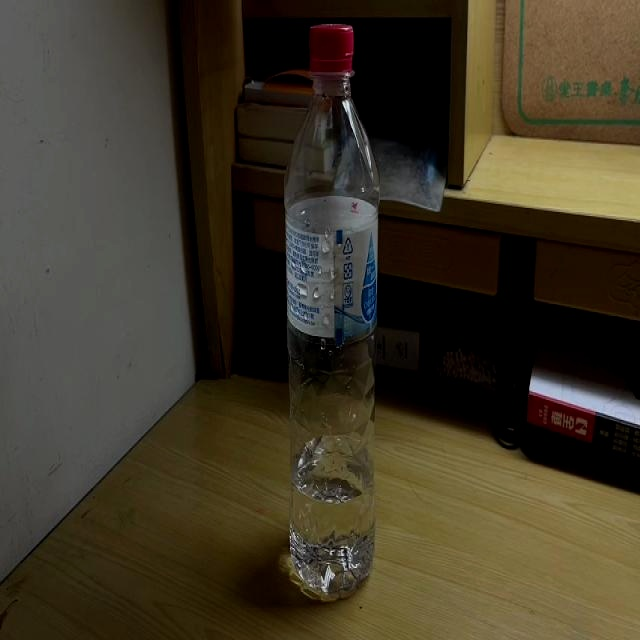Water: (284, 20, 378, 608)
